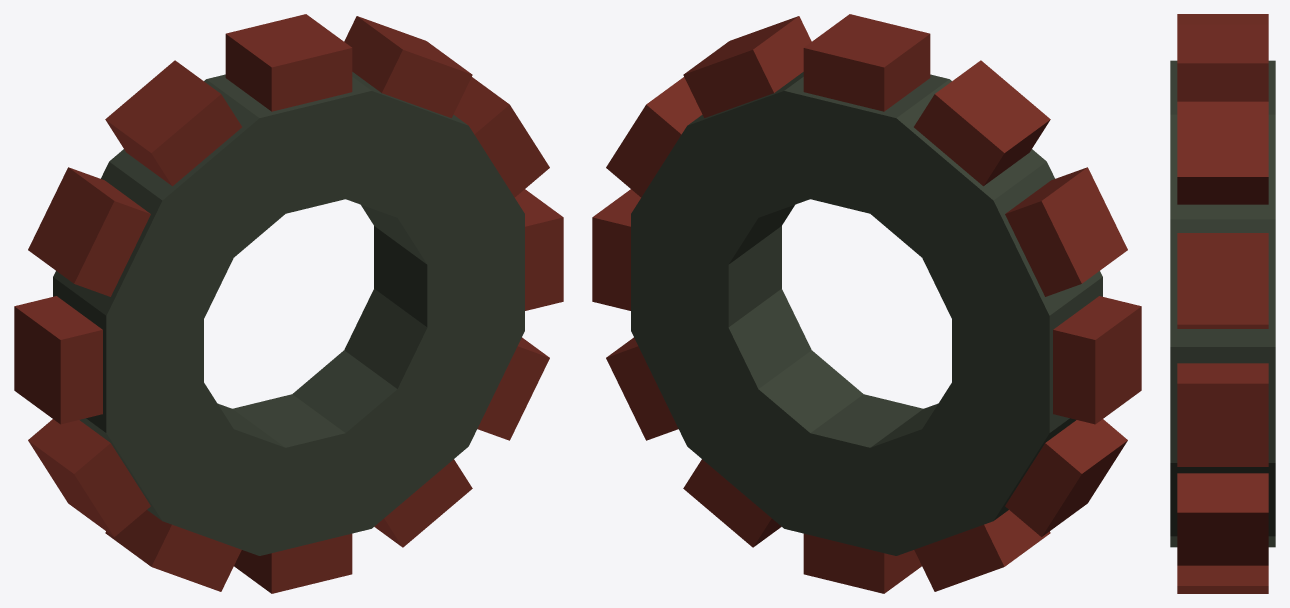
The model's file is tz11_coil_ring.obj.
3 views of the same model, side by side, from view 1: azimuth 30°, elevation 25°; view 2: azimuth 150°, elevation 25°; view 3: azimuth 270°, elevation 25° (orthographic).
Visible parts, largest first — view 1: tz11_coil_ring; view 2: tz11_coil_ring; view 3: tz11_coil_ring.
Boxes of the visible parts, <box> form: tz11_coil_ring: <box>14,14,563,593</box>; tz11_coil_ring: <box>592,14,1141,593</box>; tz11_coil_ring: <box>1170,14,1275,593</box>.
Size of the model in its own units: 4.9 by 4.9 by 0.9.
